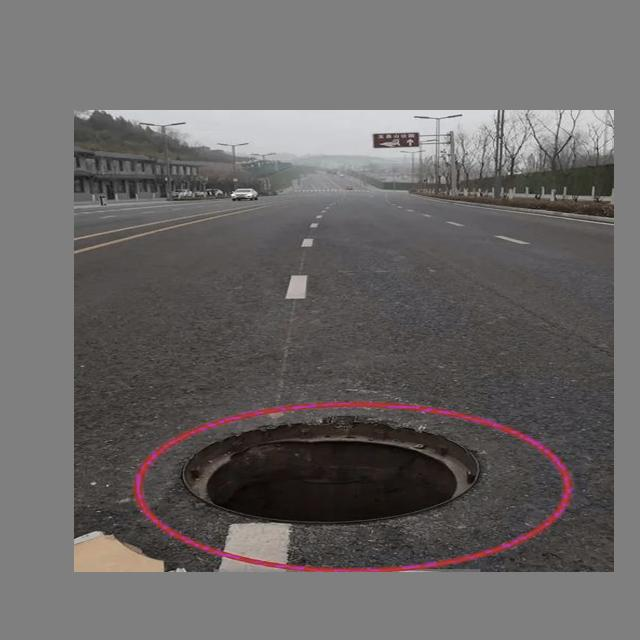lose: (175, 418, 485, 518)
